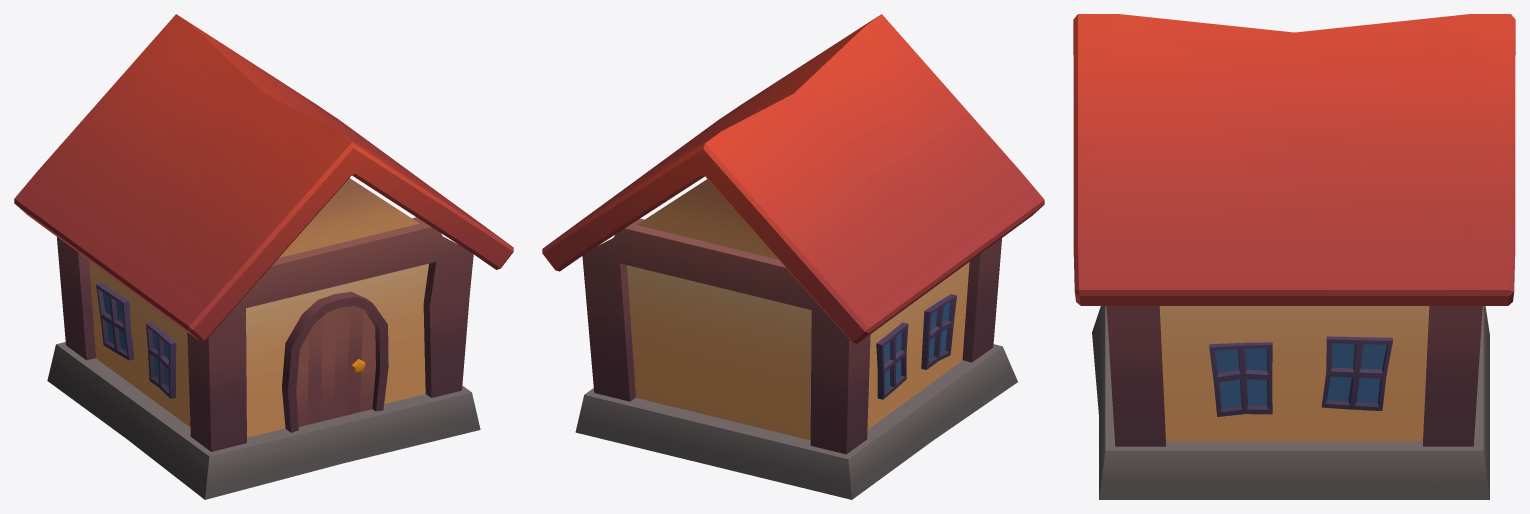
The model's file is village_red_house.gltf.
The picture shows the model from 3 angles, left to right: view 1: azimuth 30°, elevation 25°; view 2: azimuth 150°, elevation 25°; view 3: azimuth 270°, elevation 25°; orthographic projection. The views are drawn at different scales.
Visible parts, largest first — view 1: House_Red_Material.005_0 (×30); view 2: House_Red_Material.005_0 (×22); view 3: House_Red_Material.005_0 (×22).
Boxes of the visible parts, <box> form: House_Red_Material.005_0 (×30): <box>14,14,513,499</box>; House_Red_Material.005_0 (×22): <box>542,14,1044,499</box>; House_Red_Material.005_0 (×22): <box>1073,14,1515,499</box>.
Bounding box in the file's own units: 1.98 × 1.9 × 1.89.
Materials: 1 (1 with a texture image).
